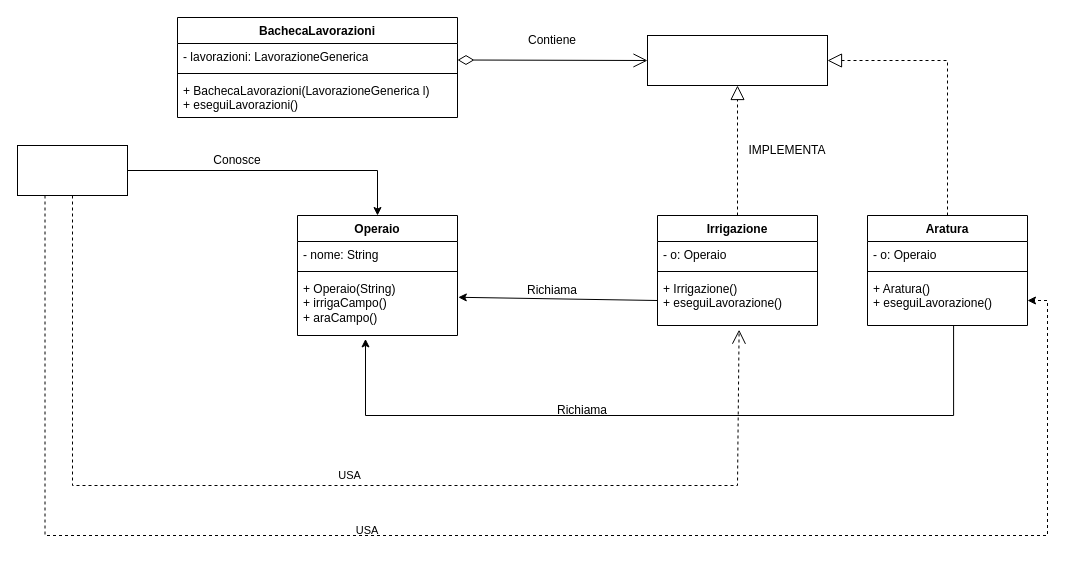
Image size: 1073x563. Some labels were removed from this diagram. Here are the shapes that lost their labels. From the top down, the box of each, then its label:
(646, 34, 828, 86): «interface» LavorazioneGenerica
(16, 144, 128, 196): Client
